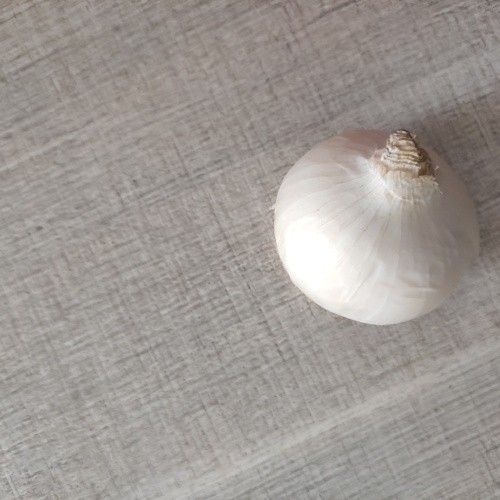cipolla: (269, 118, 486, 339)
